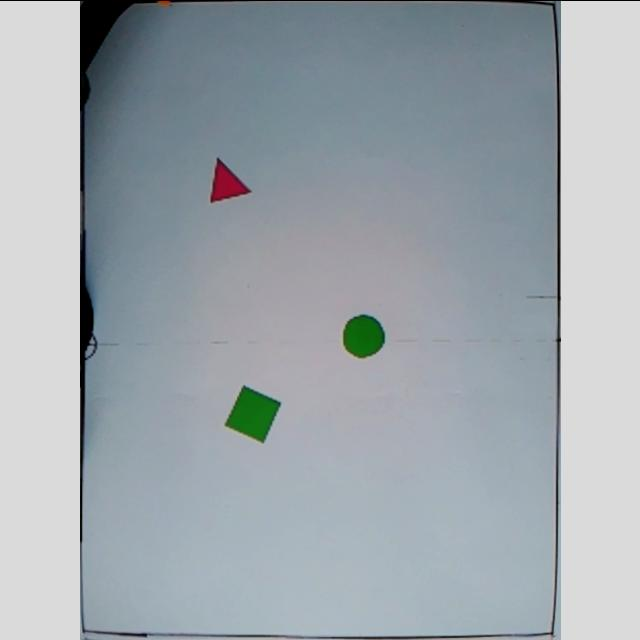greenCircle: (339, 312, 386, 360)
greenSquare: (222, 385, 280, 443)
pinkTriangle: (208, 156, 252, 202)
